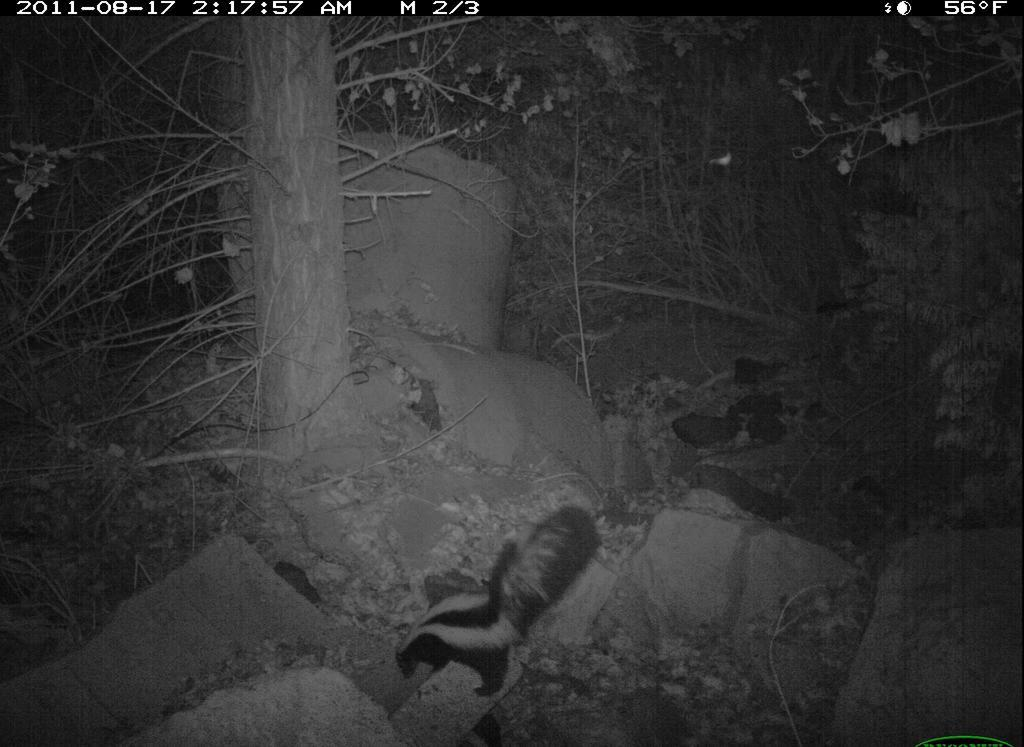skunk: (393, 509, 611, 702)
